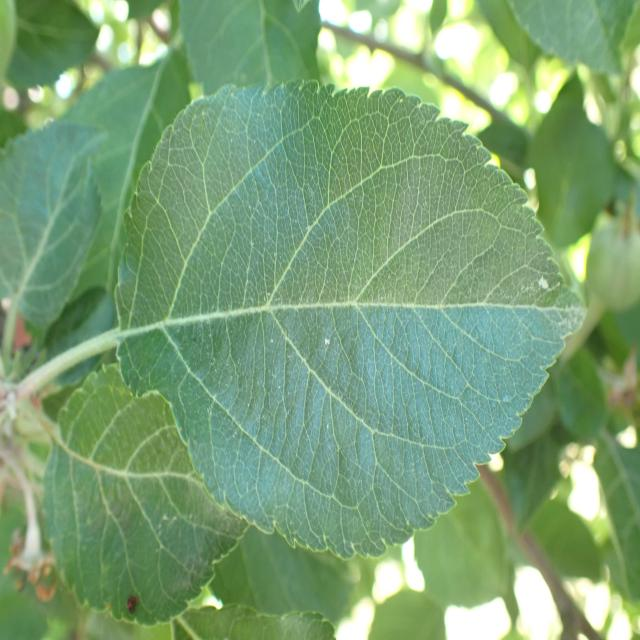healthy: (114, 79, 586, 561), (43, 360, 251, 627), (0, 118, 108, 334), (178, 0, 323, 98), (507, 0, 638, 76)
